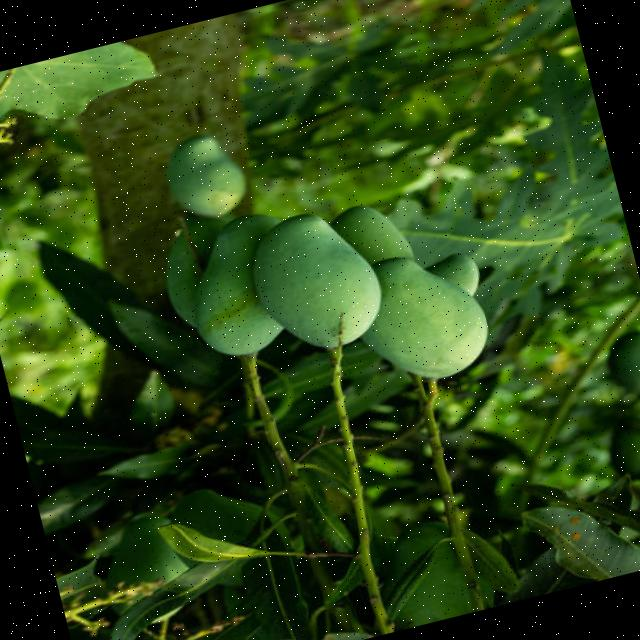mango: (251, 213, 380, 346), (360, 258, 486, 378), (194, 214, 281, 354), (167, 136, 244, 217)
